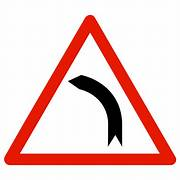left: (5, 16, 177, 165)
